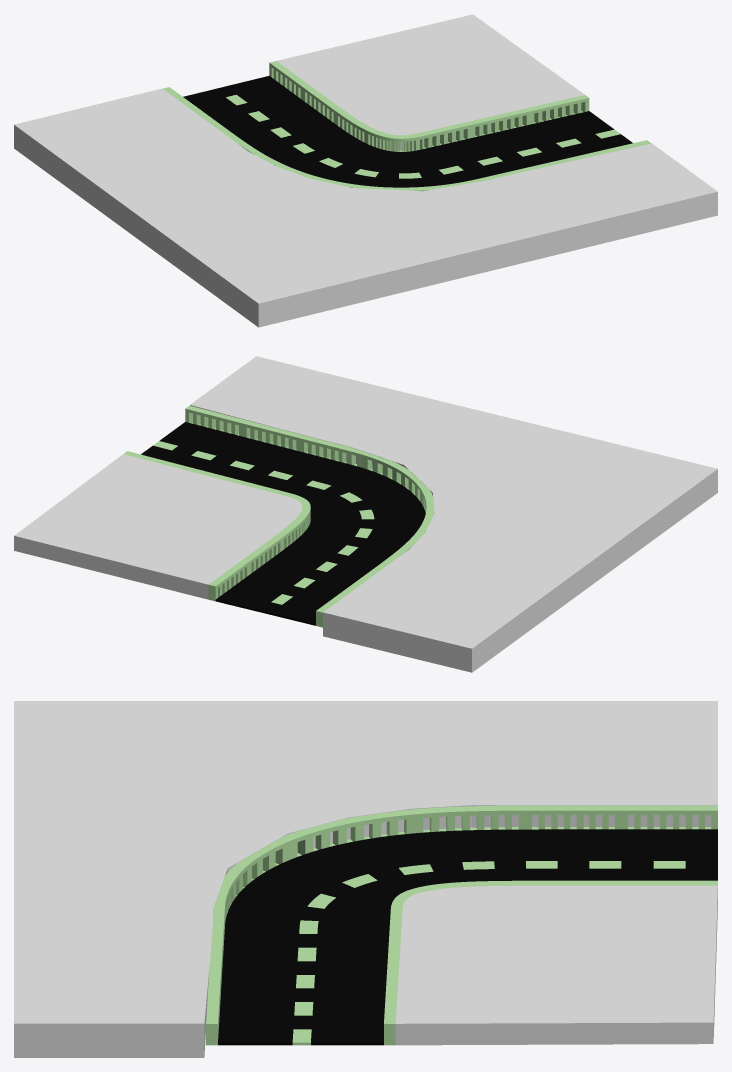
Rendered from Sci-Fi_RaceTrackUpLeft2.fbx.
The picture shows the model from 3 angles, top to bottom: view 1: azimuth 30°, elevation 25°; view 2: azimuth 150°, elevation 25°; view 3: azimuth 270°, elevation 25°; orthographic projection. The views are drawn at different scales.
Visible parts, largest first — view 1: LeftRoad, RightRoad, Plane, RightWall, LeftWall; view 2: LeftRoad, RightRoad, Plane, LeftWall, RightWall; view 3: LeftRoad, RightRoad, Plane, LeftWall, RightWall.
Part boxes in pixels (x1,y1,x2,y2): LeftRoad: (14, 88, 717, 327); RightRoad: (277, 14, 584, 150); Plane: (183, 76, 632, 187); RightWall: (269, 61, 589, 151); LeftWall: (163, 87, 650, 191); LeftRoad: (190, 356, 717, 672); RightRoad: (14, 454, 302, 599); Plane: (141, 422, 425, 625); LeftWall: (185, 405, 434, 627); RightWall: (124, 451, 310, 601); LeftRoad: (14, 701, 717, 1057); RightRoad: (395, 885, 717, 1045); Plane: (218, 829, 717, 1045); LeftWall: (206, 805, 717, 1045); RightWall: (384, 880, 717, 1045).
Bounding box in the file's own units: 4024 × 200 × 3713.
